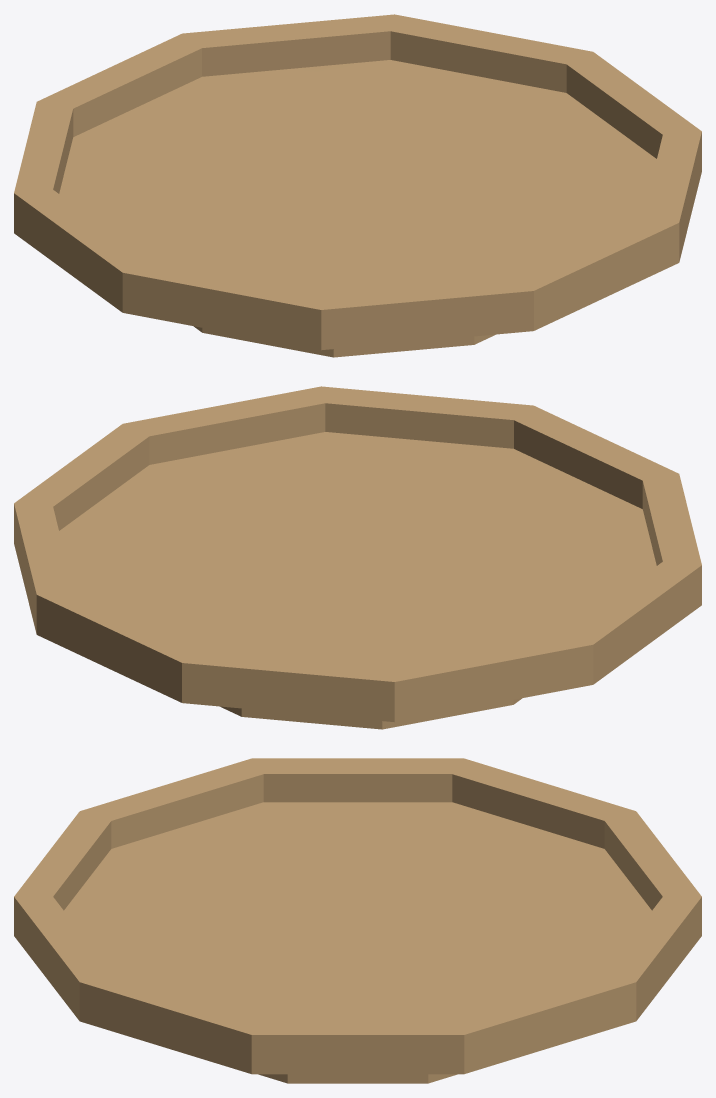
File: Plate.fbx
3 renders of one model, top to bottom at view 1: azimuth 30°, elevation 25°; view 2: azimuth 150°, elevation 25°; view 3: azimuth 270°, elevation 25°, orthographic. The views are drawn at different scales.
Visible parts, largest first — view 1: Talerz; view 2: Talerz; view 3: Talerz.
Boxes of the visible parts, bbox=[...] form: Talerz: bbox=[14, 14, 701, 357]; Talerz: bbox=[14, 386, 701, 729]; Talerz: bbox=[14, 758, 701, 1083].
Bounding box in the file's own units: 37.92 × 6.1 × 39.87.
1 material, 1 textured.
